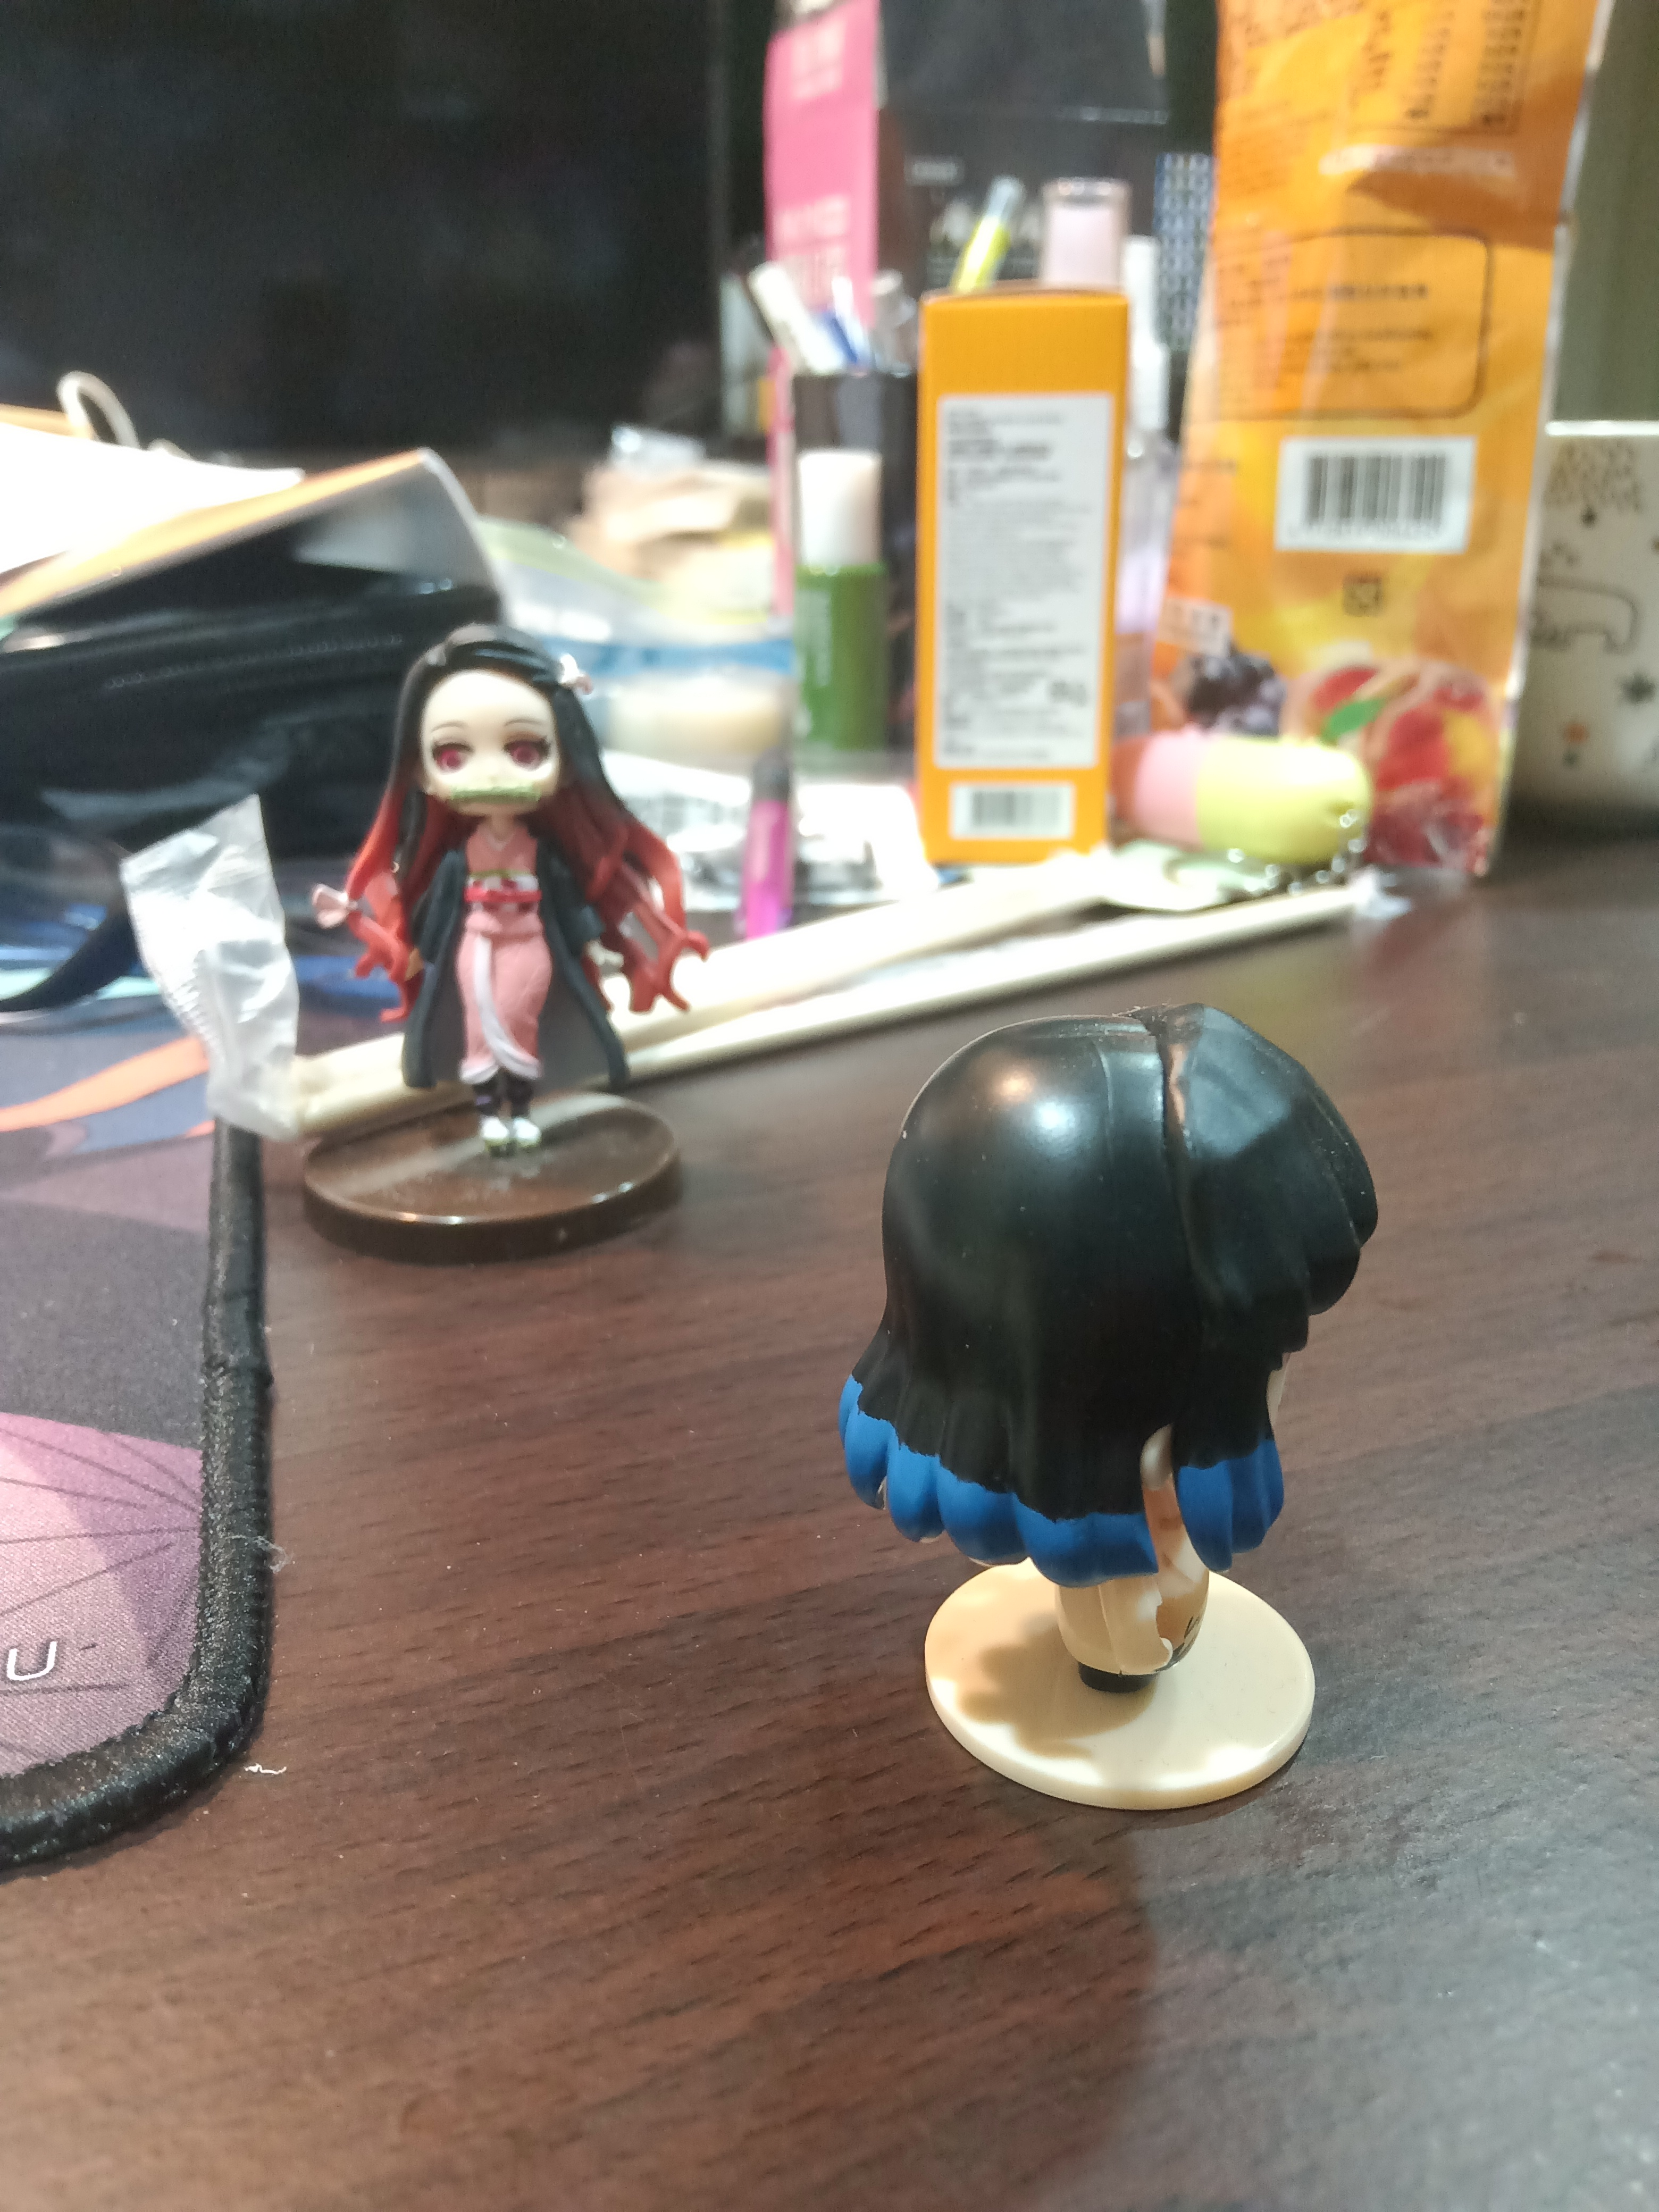Inosuke: (816, 993, 1396, 1825)
Nezuko: (293, 611, 720, 1270)
